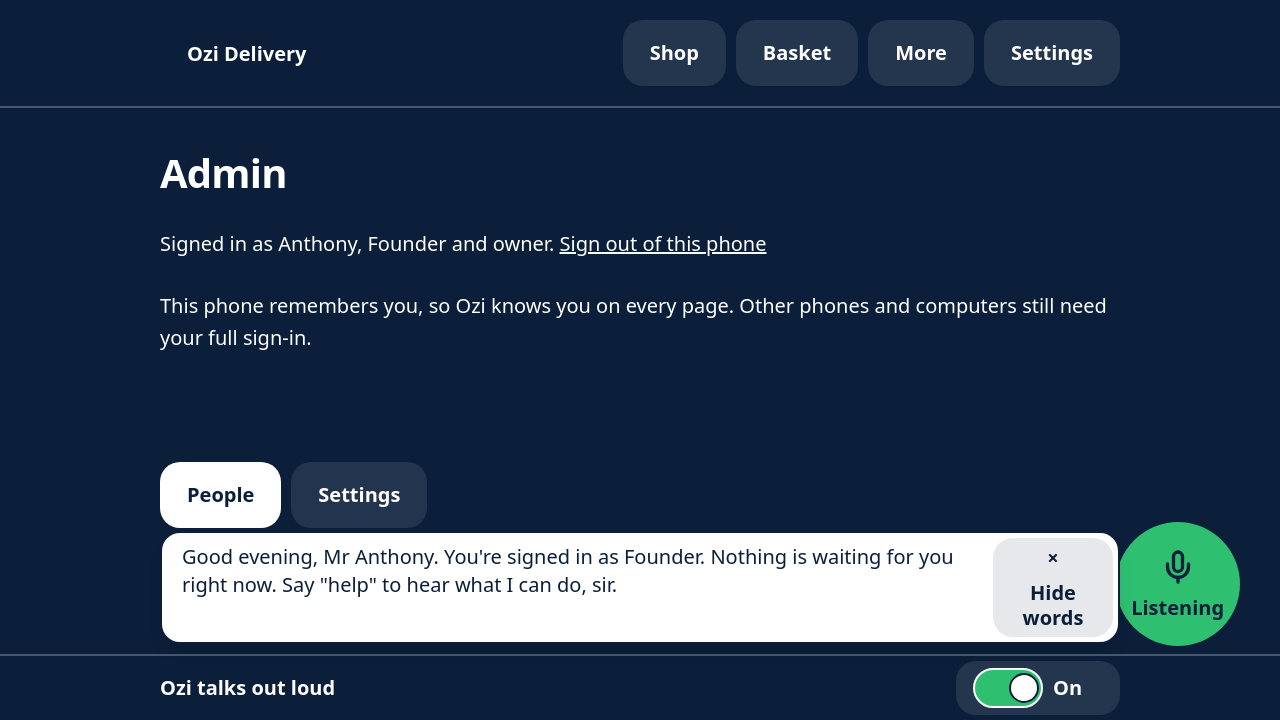
the owner on his own phone, in the admin panel › Sign out of this phone forgets him here and tells the server
This screenshot has width=1280, height=720.
Click the button "Sign out of this phone".
click(663, 244)  # box [560,228,766,260]
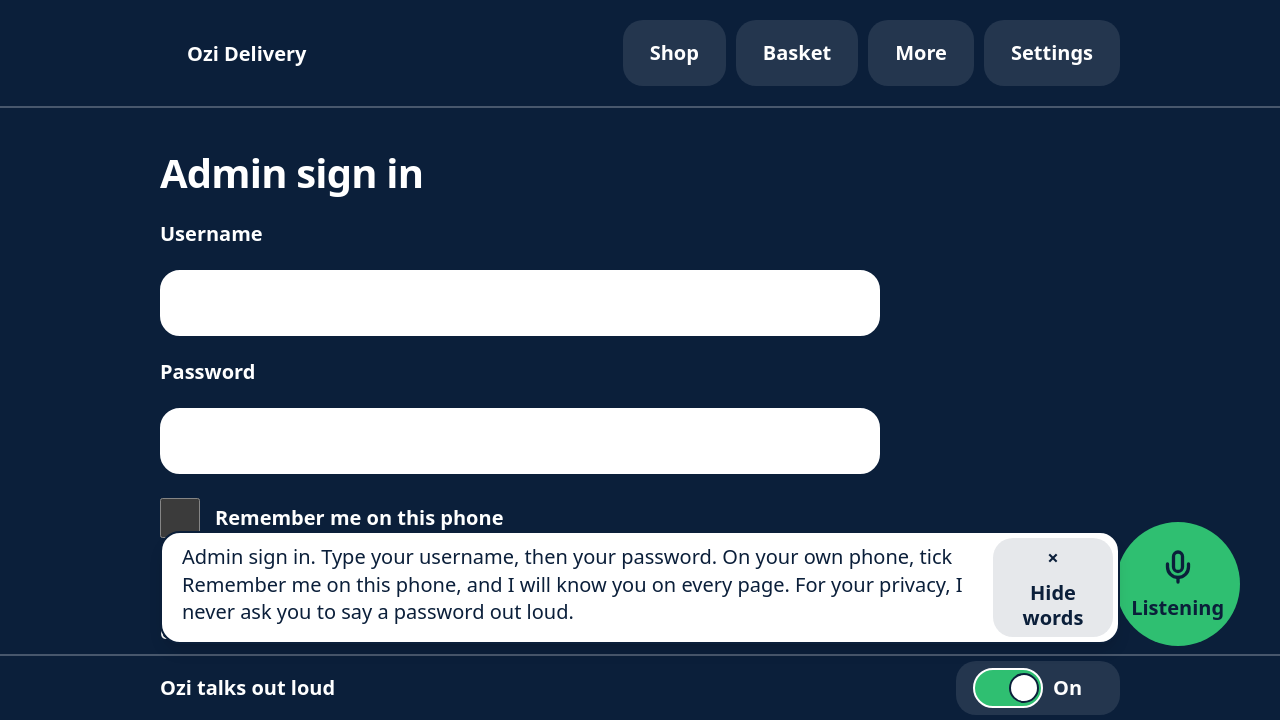
Expected: the field labelled "Username" is shown, [160,270,880,336]
